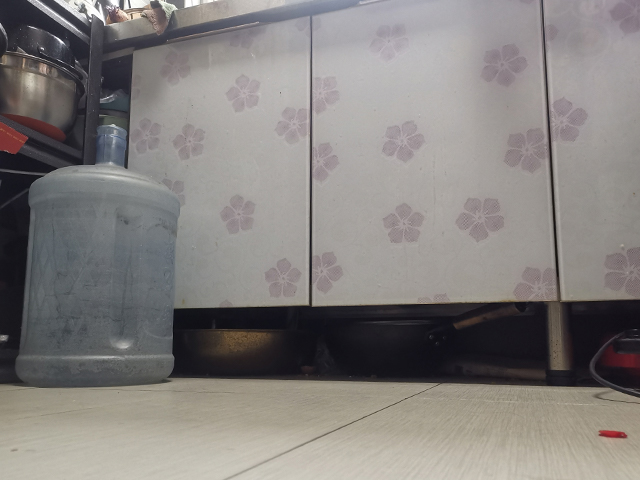cabinet: (102, 1, 640, 386)
wire: (587, 329, 640, 398)
